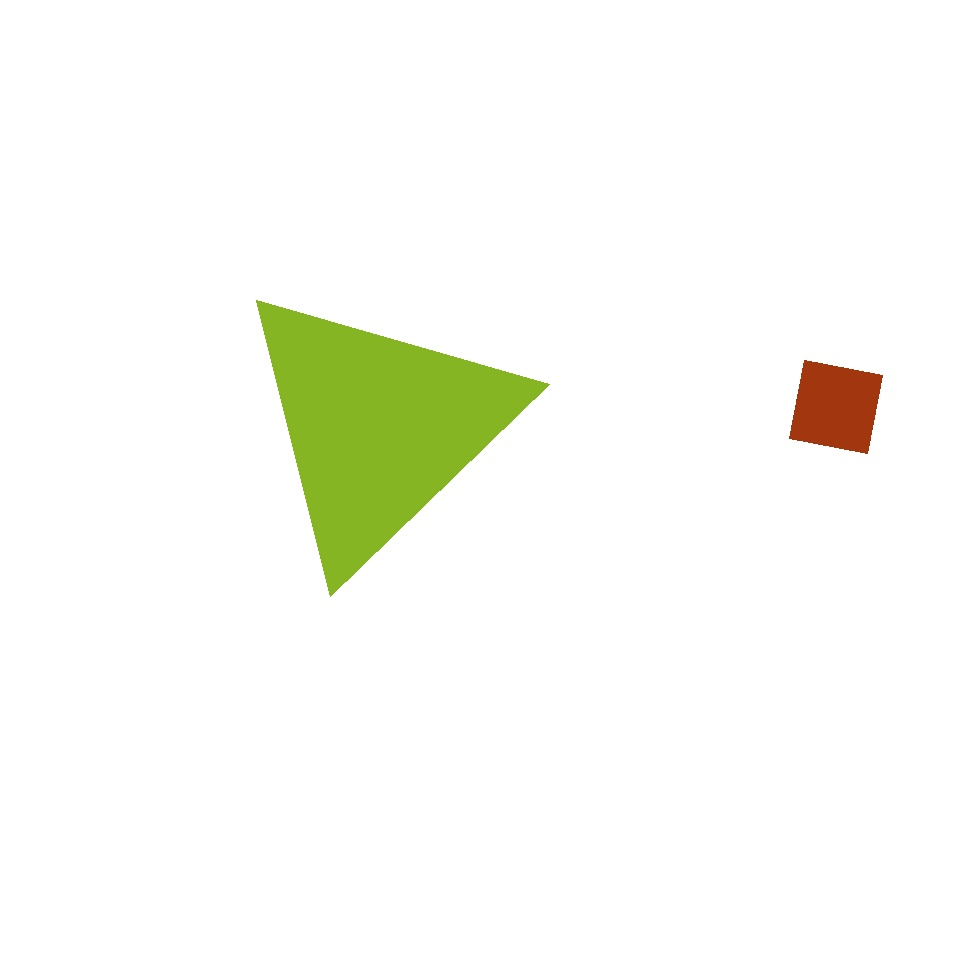circle: (232, 279, 526, 575), (110, 598, 330, 800), (620, 584, 810, 780)
square: (226, 64, 414, 250), (269, 227, 408, 366), (790, 360, 882, 454)
triangle: (668, 286, 840, 456), (40, 48, 156, 162)
